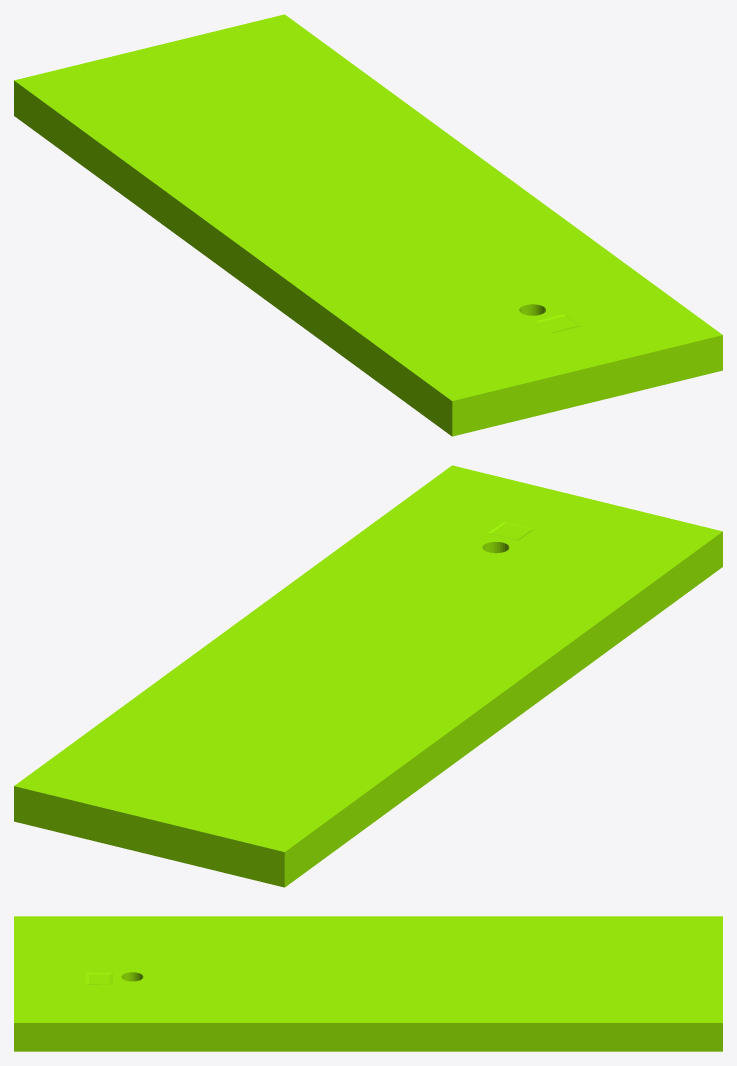
The model's file is Ground.fbx.
The picture shows the model from 3 angles, top to bottom: view 1: azimuth 30°, elevation 25°; view 2: azimuth 150°, elevation 25°; view 3: azimuth 270°, elevation 25°; orthographic projection. The views are drawn at different scales.
Parts seen in each view (by area): view 1: Ground; view 2: Ground; view 3: Ground.
Boxes of the visible parts, x1,y1,x2,y2 form: Ground: (14, 14, 722, 436); Ground: (14, 465, 722, 887); Ground: (14, 916, 722, 1051).
Size of the model in its own units: 899 by 113 by 2521.
